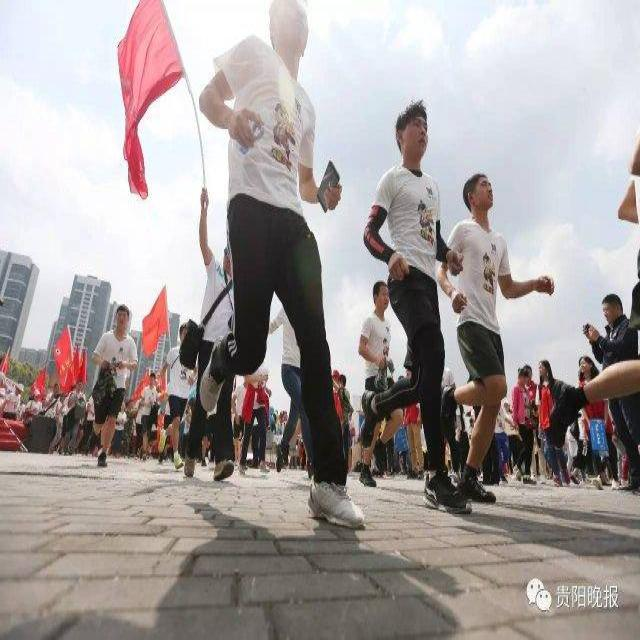non-fight: (361, 99, 472, 517), (437, 170, 553, 503), (86, 304, 138, 469)
